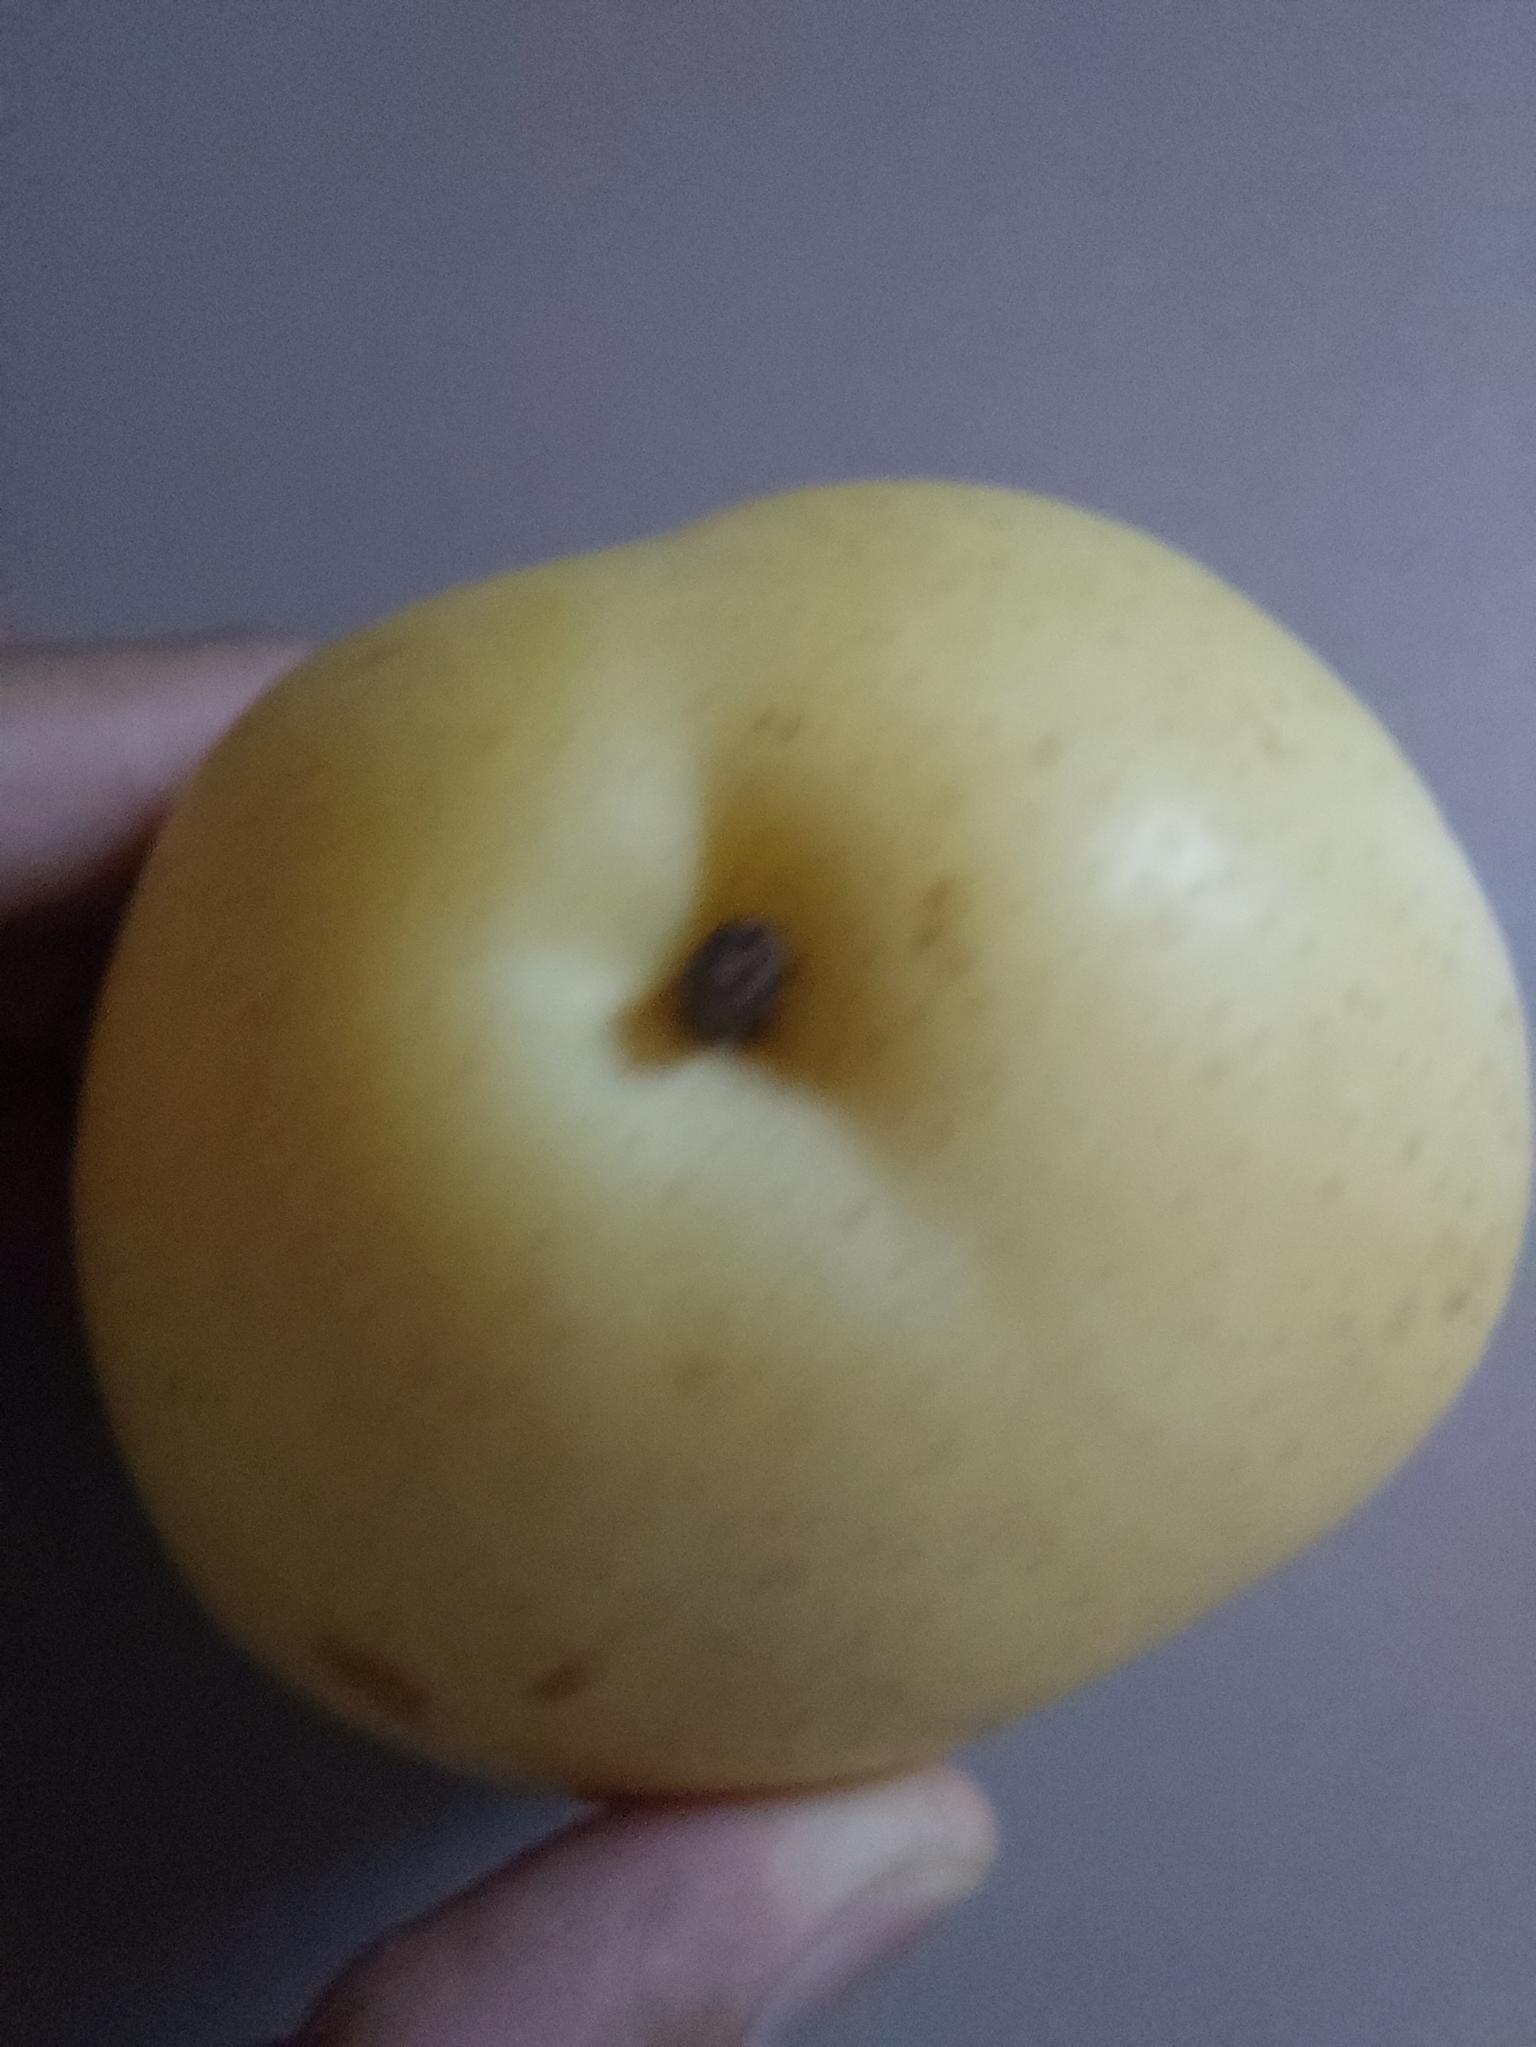Good Pear: (65, 477, 1534, 1802)
